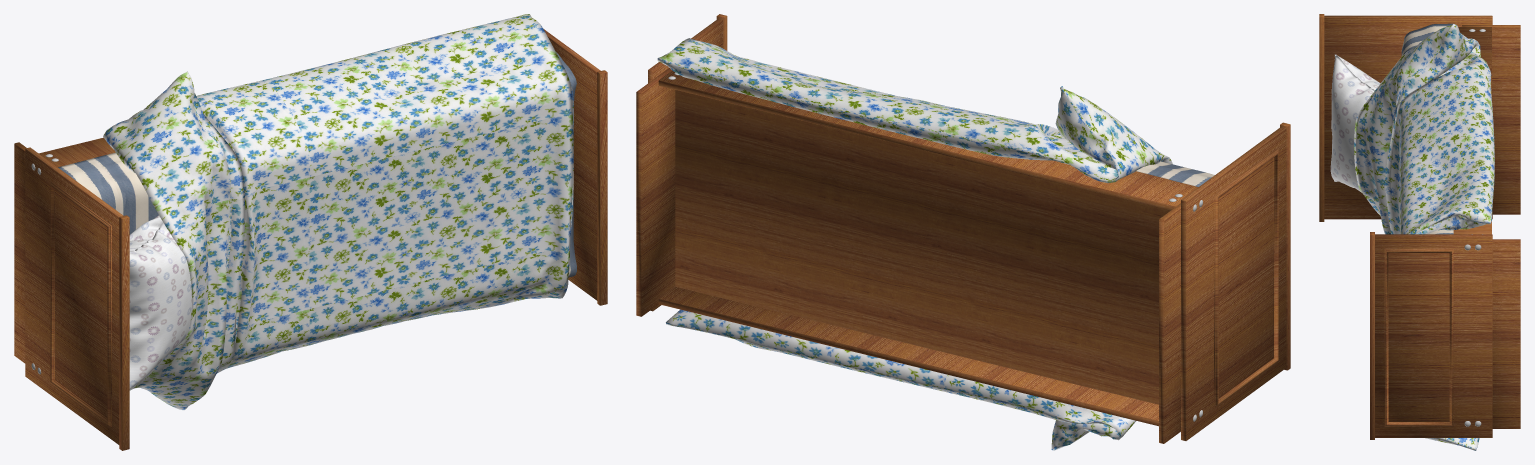
Rendered from bed-wood-single.obj.
3 renders of one model, left to right at view 1: azimuth 30°, elevation 25°; view 2: azimuth 150°, elevation 25°; view 3: azimuth 270°, elevation 25°, orthographic. The views are drawn at different scales.
Visible parts, largest first — view 1: Blanket, Wood, Pillow, Cloth; view 2: Wood, Blanket, Cloth; view 3: Wood, Blanket, Pillow, Cloth.
Boxes of the visible parts, x1,y1,x2,y2 form: Blanket: (103, 14, 573, 410); Wood: (14, 29, 607, 450); Pillow: (129, 215, 191, 389); Cloth: (58, 52, 576, 382); Wood: (636, 14, 1290, 443); Blanket: (657, 38, 1172, 450); Cloth: (1136, 161, 1214, 186); Wood: (1319, 14, 1520, 439); Blanket: (1354, 24, 1494, 450); Pillow: (1330, 54, 1380, 192); Cloth: (1401, 23, 1453, 234).
Size of the model in its own units: 2.06 by 1.31 by 0.7873.
